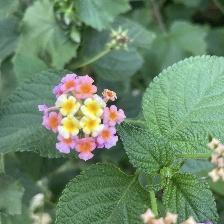common lanthana: (41, 72, 123, 161)
